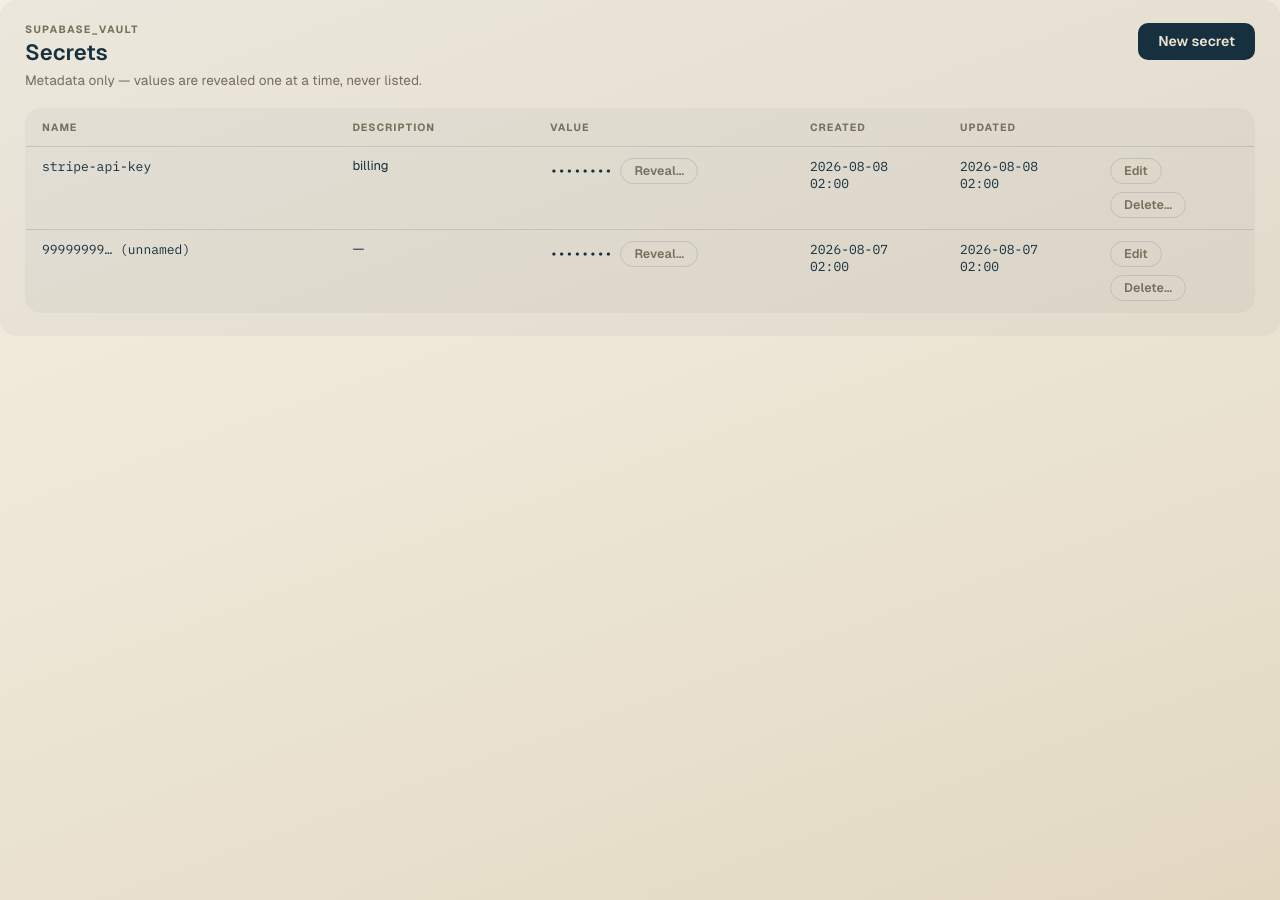
VaultClient › reveal = per-secret warn confirm, then POST; cancel sends nothing
Click the button "Reveal…" in the row of "stripe-api-key": click(659, 170) [620,158,698,184]
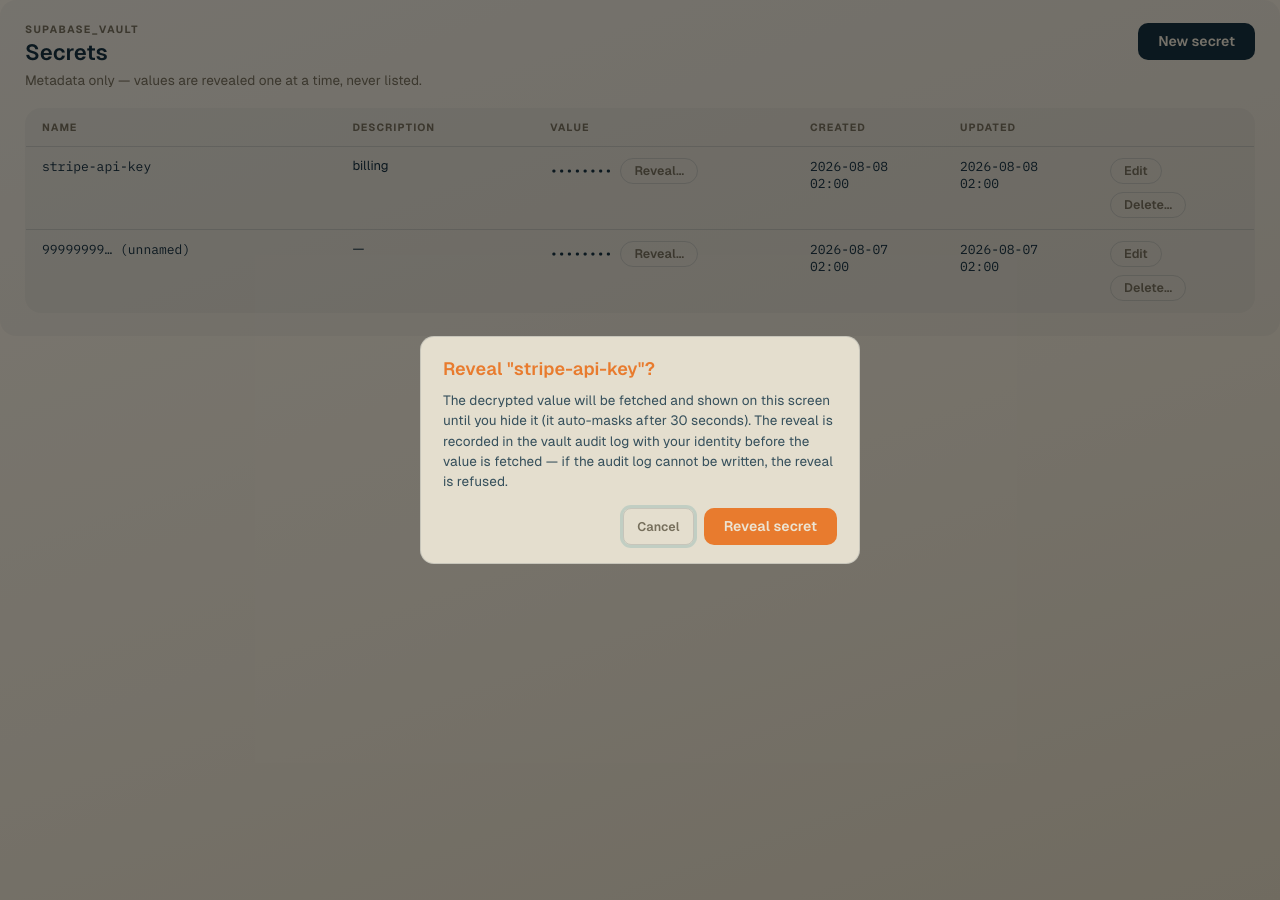
Expected: the dialog shows "Reveal \"stripe-api-key\"?", [443,358,655,378]
Expected: the dialog shows "audit log", [443,393,833,489]
Click the button "Cancel": click(658, 527) [623,508,694,546]
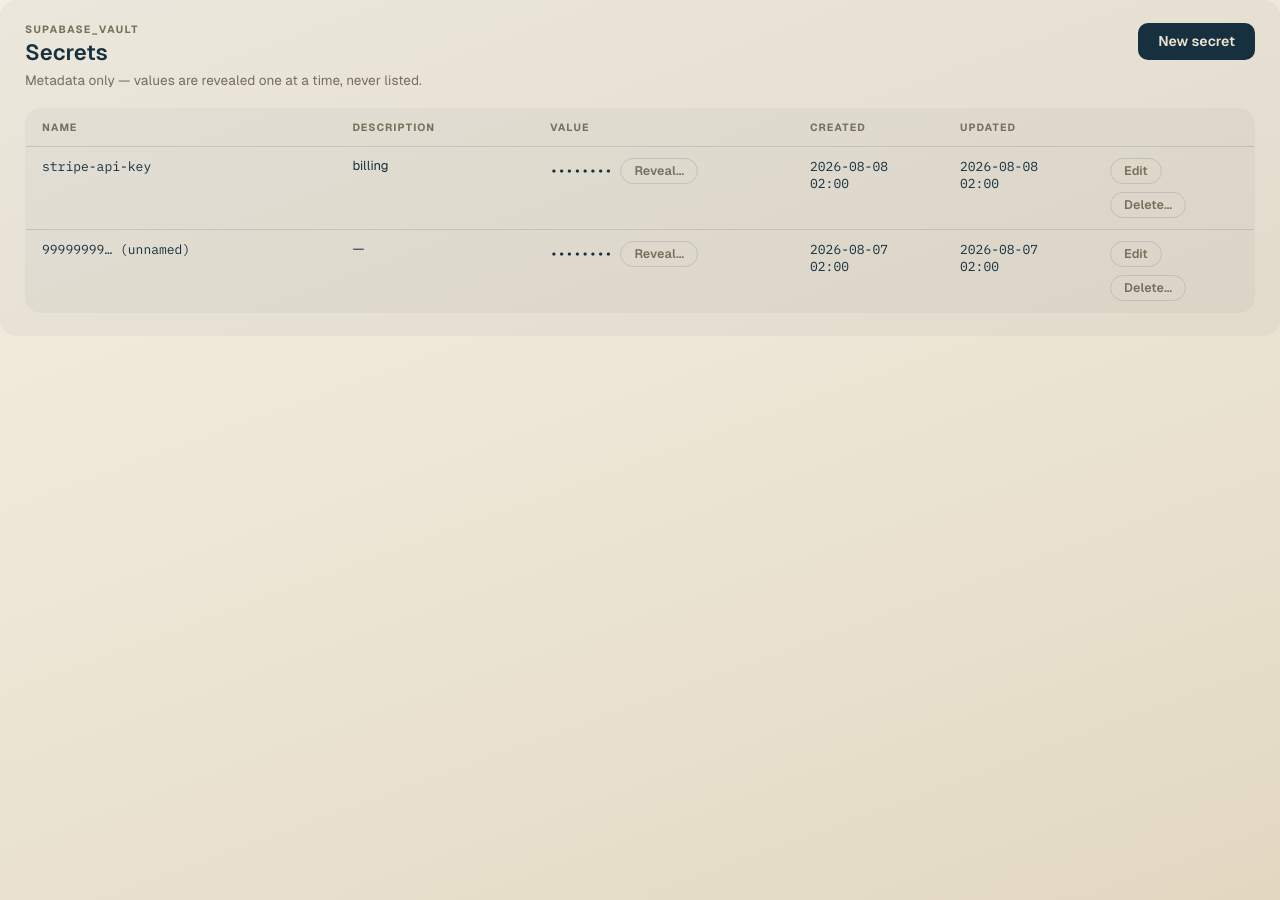
Expected: the text "sk_live_SENTINEL_hunter2" is not shown
Click the button "Reveal…" in the row of "stripe-api-key": click(659, 170) [620,158,698,184]
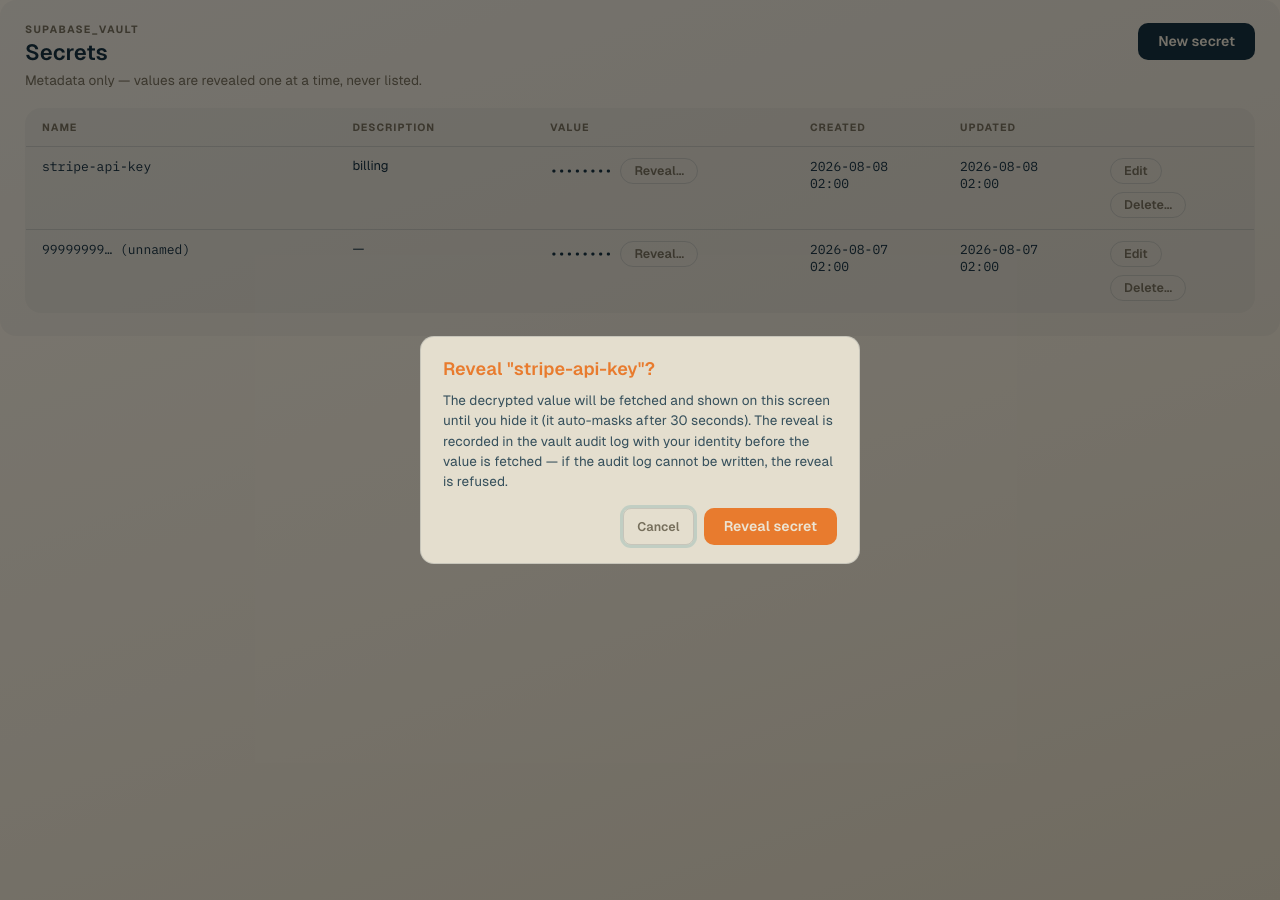
Click the button "Reveal secret": click(770, 527) [704,508,837,546]
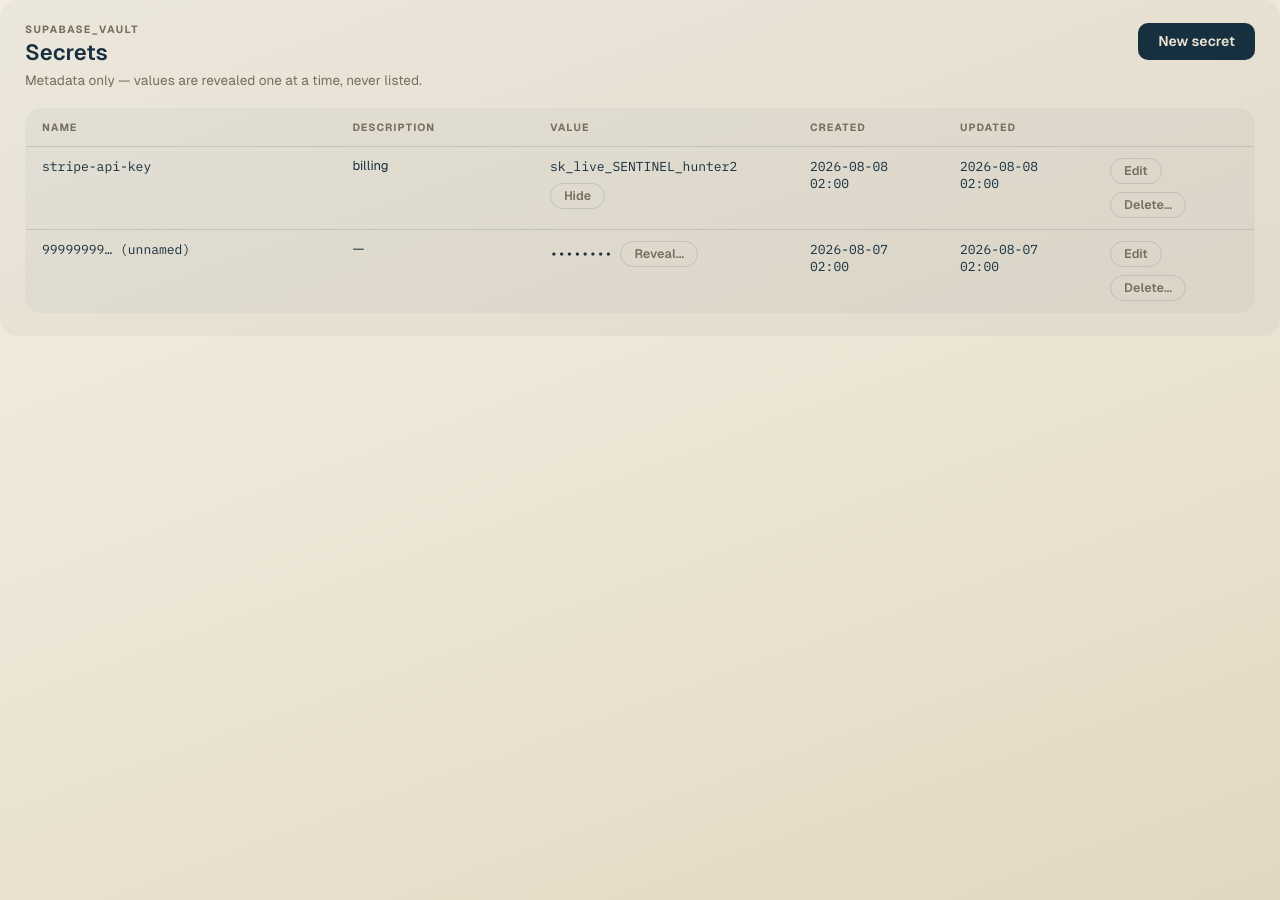
Expected: the text "sk_live_SENTINEL_hunter2" is shown, [550,158,737,174]
